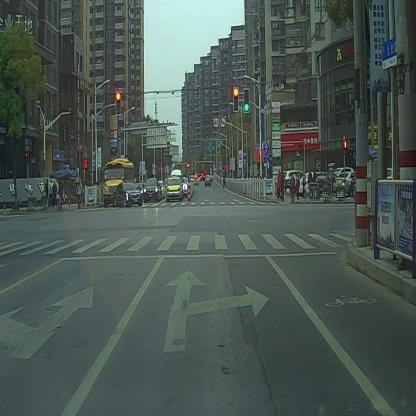Red Light: (233, 84, 239, 113), (116, 88, 122, 116)
